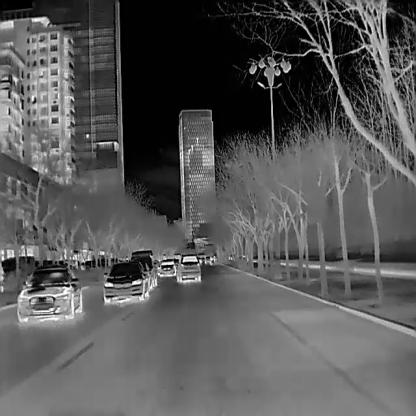car: (16, 262, 82, 322), (102, 261, 147, 303), (129, 247, 156, 286), (174, 253, 200, 281), (158, 258, 175, 276)
